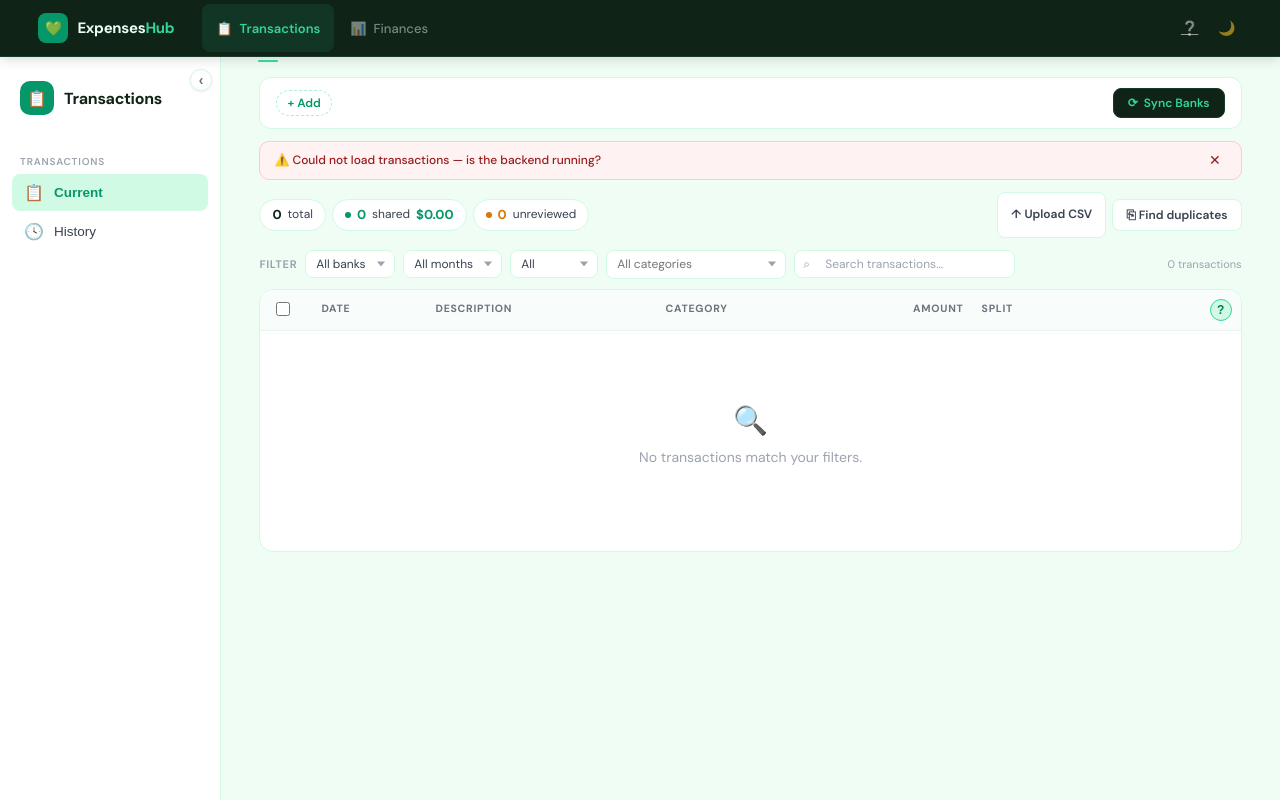
it: error banner can be dismissed
This screenshot has width=1280, height=800.
Expected: the text "⚠️ Could not load transactions — is the backend running?" is shown, [274,152,601,169]
Click the button named "Dismiss error" at (1215, 160), box [1203,152,1227,168]
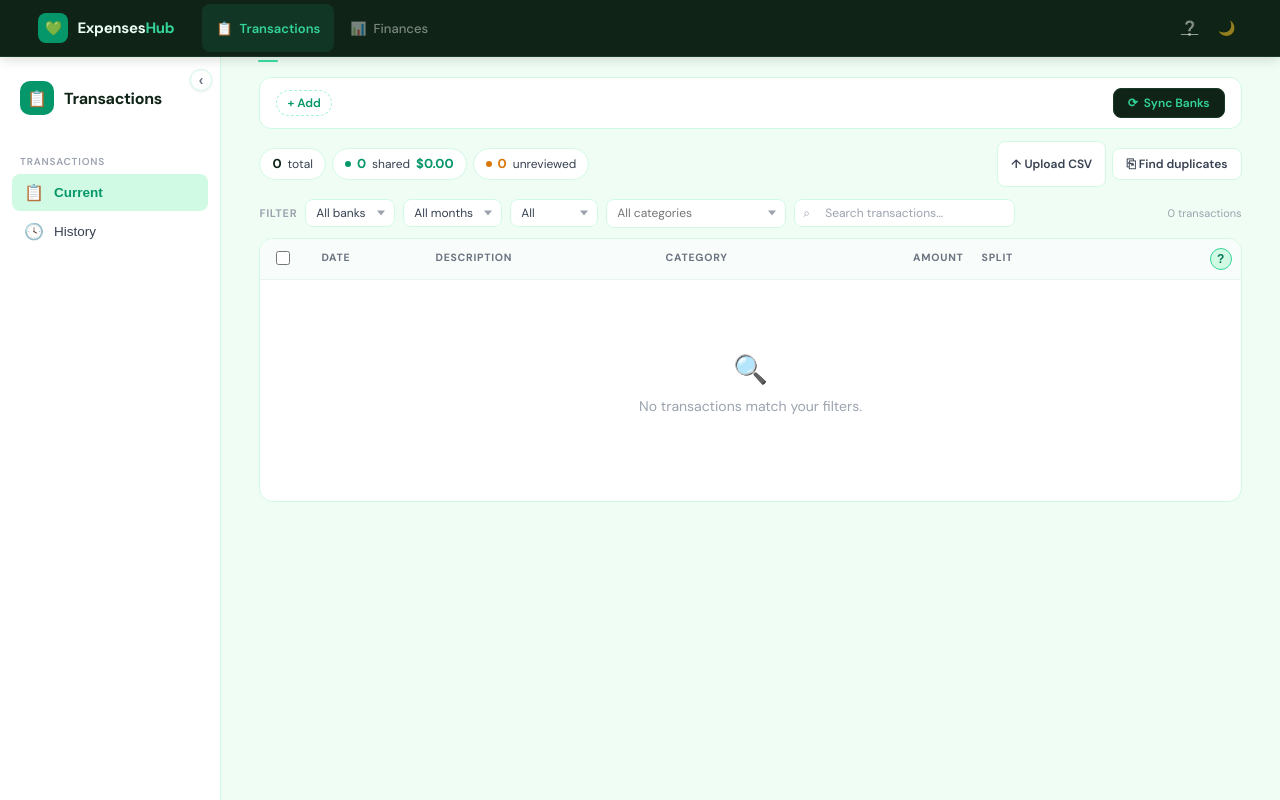
Result: the text "Could not load transactions" is gone
